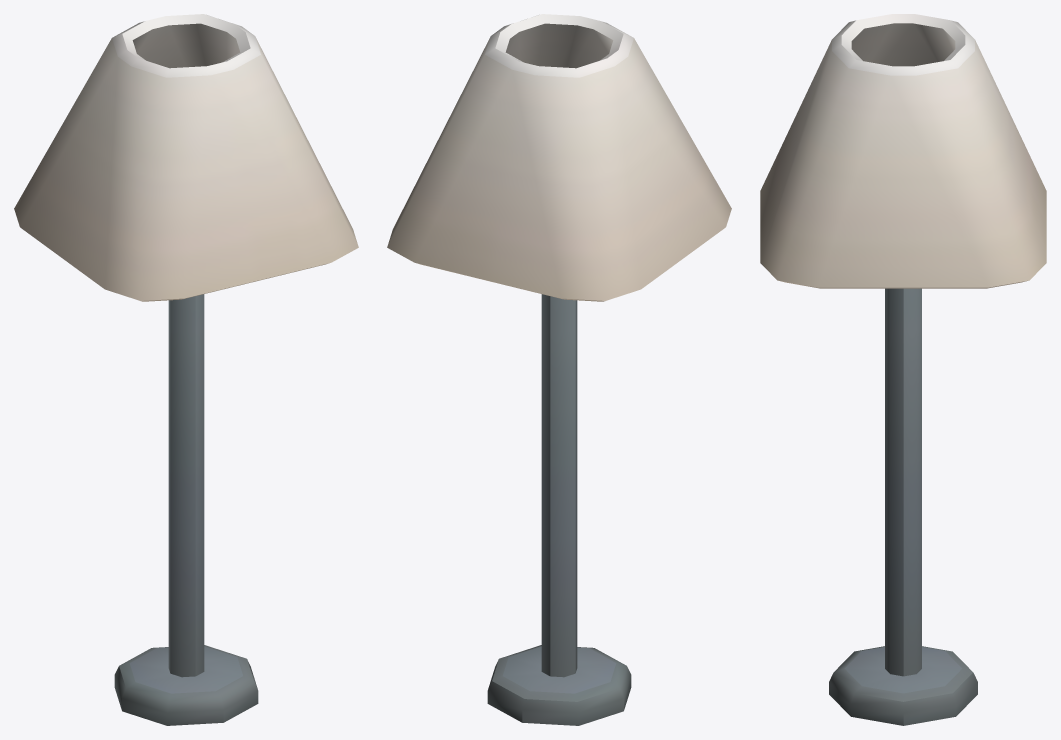
The model's file is kay-luminaria-pe.gltf.
The picture shows the model from 3 angles, left to right: view 1: azimuth 30°, elevation 25°; view 2: azimuth 150°, elevation 25°; view 3: azimuth 270°, elevation 25°; orthographic projection.
Visible parts, largest first — view 1: lamp_standing; view 2: lamp_standing; view 3: lamp_standing.
Boxes of the visible parts, x1,y1,x2,y2 form: lamp_standing: (14, 14, 358, 725); lamp_standing: (387, 14, 731, 725); lamp_standing: (760, 14, 1046, 725).
Size of the model in its own units: 0.6499 by 1.64 by 0.6499.
Materials: 1 (1 with a texture image).
